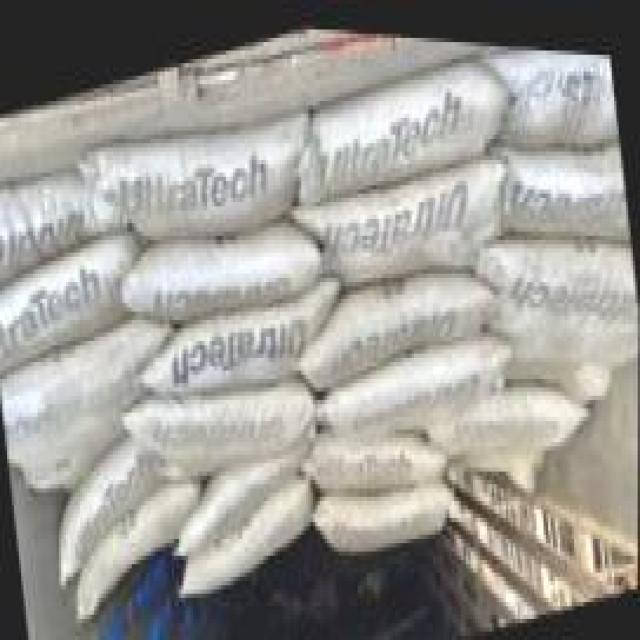gunny_bag: (85, 113, 292, 234), (142, 272, 332, 395), (0, 309, 163, 447), (300, 167, 495, 279), (302, 87, 500, 192), (181, 459, 310, 599), (0, 226, 123, 372), (492, 242, 638, 352), (127, 232, 311, 318), (322, 347, 499, 436), (305, 293, 480, 382), (77, 478, 189, 612), (136, 391, 300, 477), (500, 136, 630, 229), (487, 43, 618, 131), (429, 400, 590, 451), (303, 421, 431, 485), (319, 484, 447, 545)
